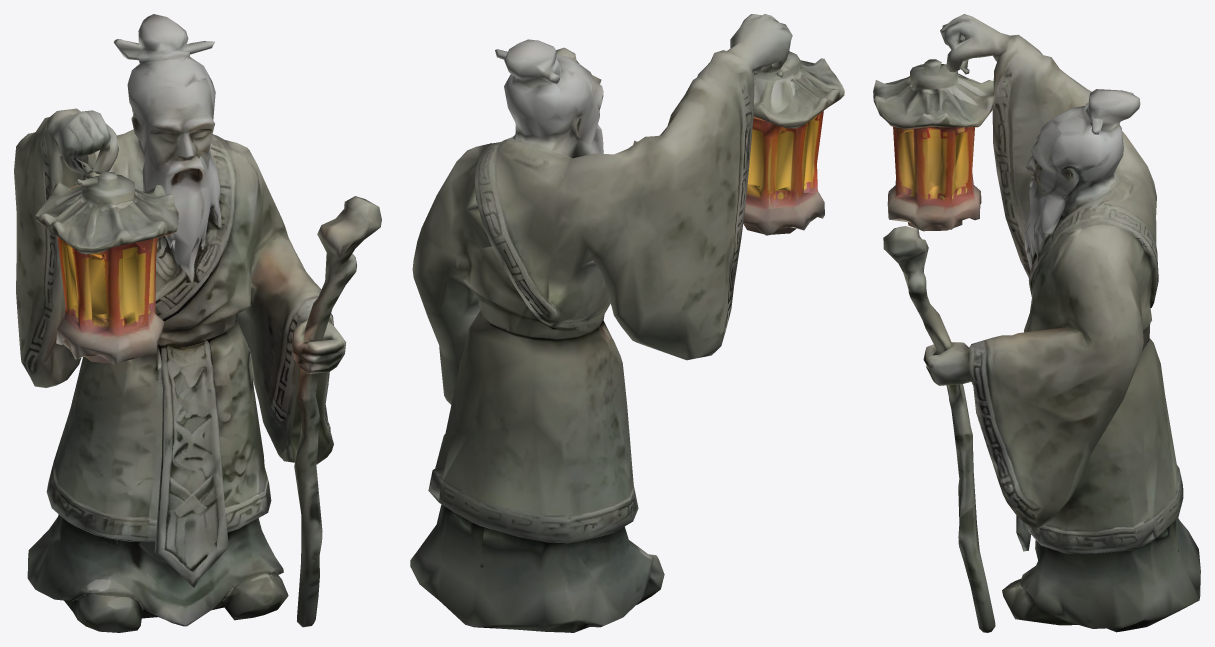
Rendered from ss_tianyi_noble.glb.
3 renders of one model, left to right at view 1: azimuth 30°, elevation 25°; view 2: azimuth 150°, elevation 25°; view 3: azimuth 270°, elevation 25°, orthographic. The views are drawn at different scales.
Visible parts, largest first — view 1: tripo_node_c74c7976-af91-4072-8e62-db2974d5a83f; view 2: tripo_node_c74c7976-af91-4072-8e62-db2974d5a83f; view 3: tripo_node_c74c7976-af91-4072-8e62-db2974d5a83f.
Boxes of the visible parts, box(x1,y1,x2,y2) form: tripo_node_c74c7976-af91-4072-8e62-db2974d5a83f: box(14, 14, 381, 632); tripo_node_c74c7976-af91-4072-8e62-db2974d5a83f: box(410, 14, 844, 632); tripo_node_c74c7976-af91-4072-8e62-db2974d5a83f: box(873, 14, 1200, 632).
Bounding box in the file's own units: 0.5989 × 0.9984 × 0.576.
Materials: 1 (1 with a texture image).
